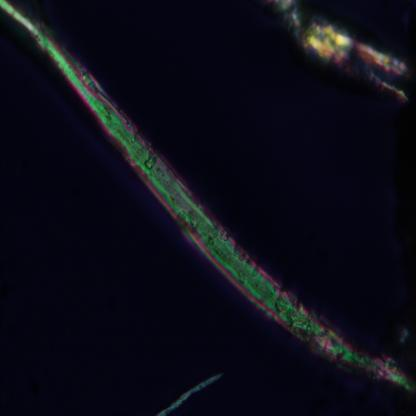Cellulose filter fibre: (277, 0, 412, 110), (159, 370, 225, 413)
Microfibre: (0, 0, 409, 398)
